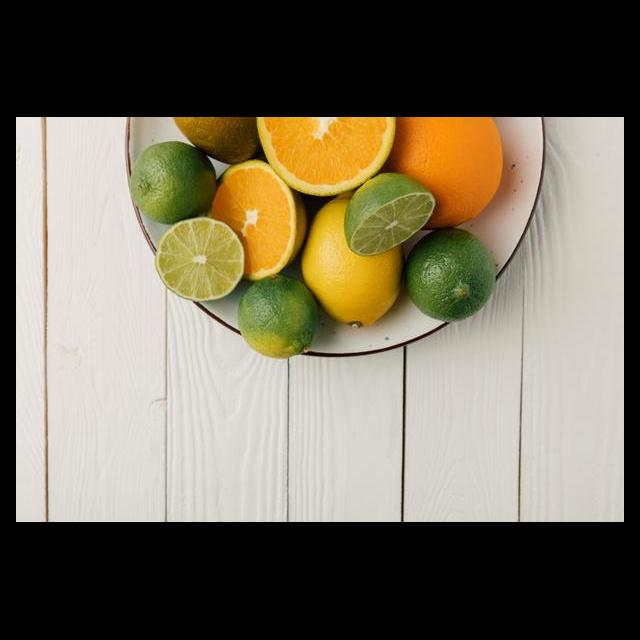lime: (398, 225, 505, 328), (123, 138, 221, 231), (234, 270, 319, 368)
